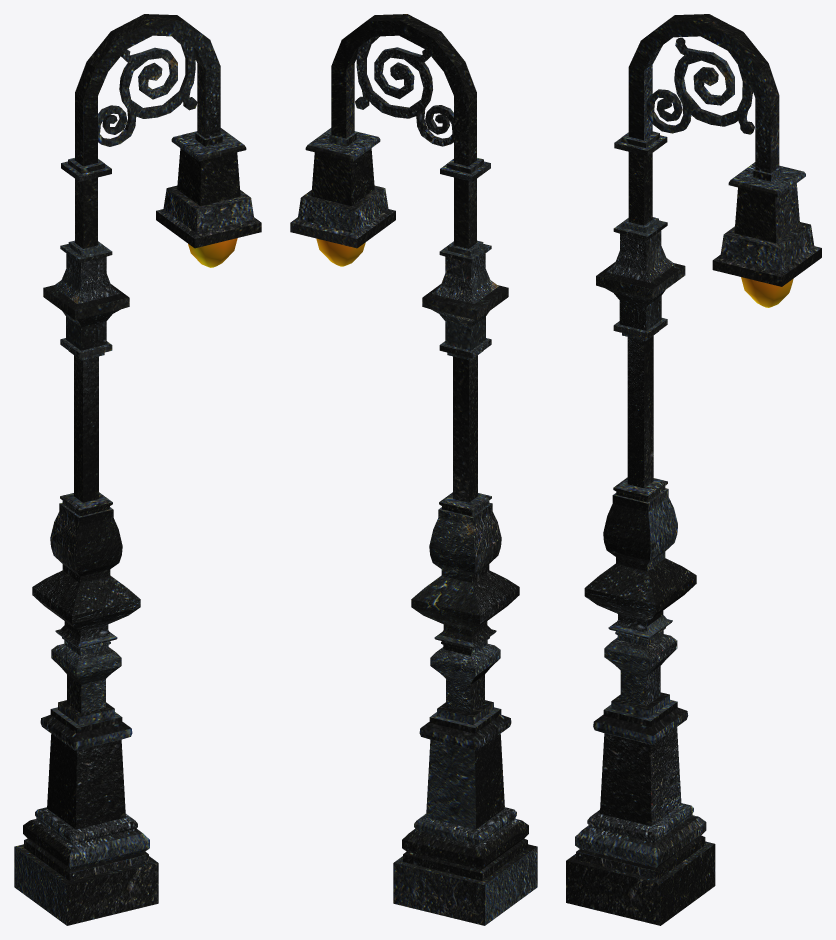
The model's file is textured lamp 3.fbx.
3 views of the same model, side by side, from view 1: azimuth 30°, elevation 25°; view 2: azimuth 150°, elevation 25°; view 3: azimuth 330°, elevation 25° (orthographic). The views are drawn at different scales.
Visible parts, largest first — view 1: Circle, Circle.009; view 2: Circle, Circle.009; view 3: Circle, Circle.009.
Boxes of the visible parts, x1,y1,x2,y2 form: Circle: (14,14,261,925); Circle.009: (188,238,237,267); Circle: (290,14,537,925); Circle.009: (316,238,365,266); Circle: (566,14,821,925); Circle.009: (741,277,793,307).
Size of the model in its own units: 110 by 450 by 49.94.
Materials: 2 (2 with a texture image).
